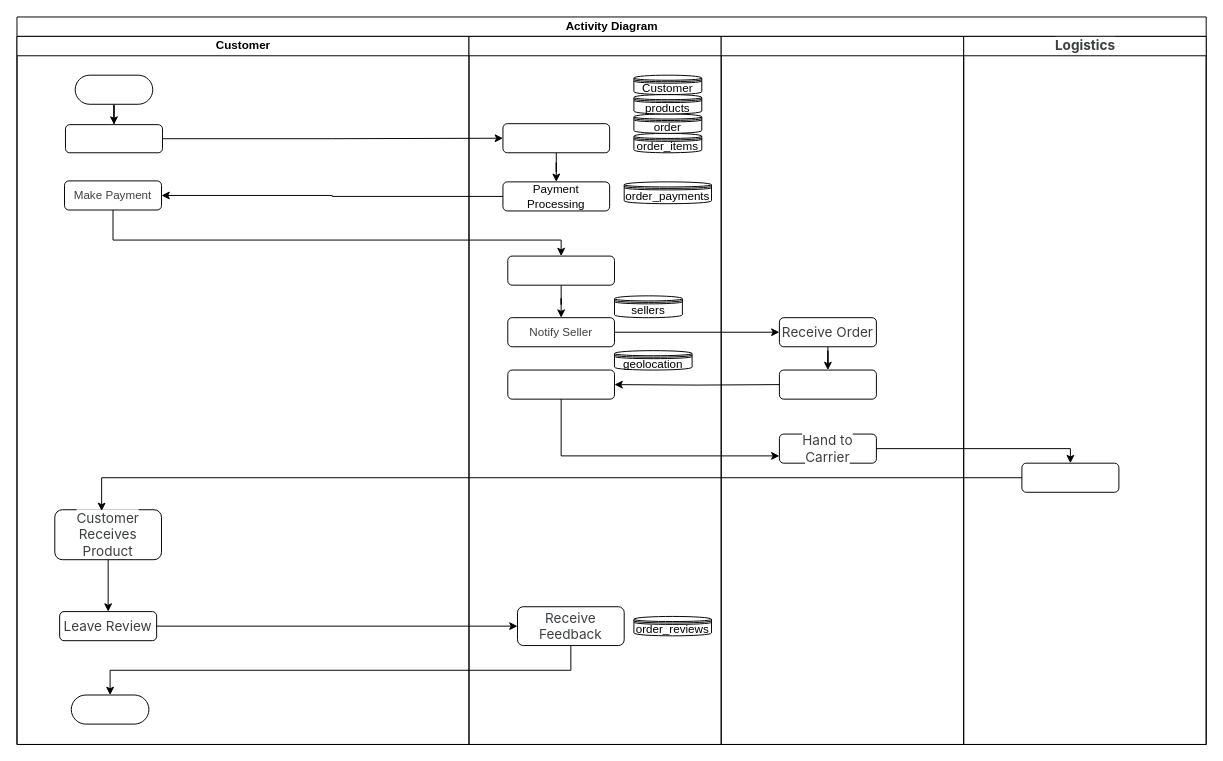
Image size: 1223x761. Some labels were removed from this diagram. Each missing label, with the box of its shape:
Create Order Record: (502, 123, 610, 153)
Delivery: (1021, 462, 1119, 492)
Location Inquiry: (507, 369, 614, 399)
Merchant: (720, 35, 964, 744)
Olist platform: (468, 35, 721, 744)
Pack Order: (778, 369, 876, 399)
Payment Approval: (507, 255, 614, 285)
Place Order: (65, 124, 162, 153)
START: (74, 74, 153, 104)
STOP: (70, 694, 149, 724)
